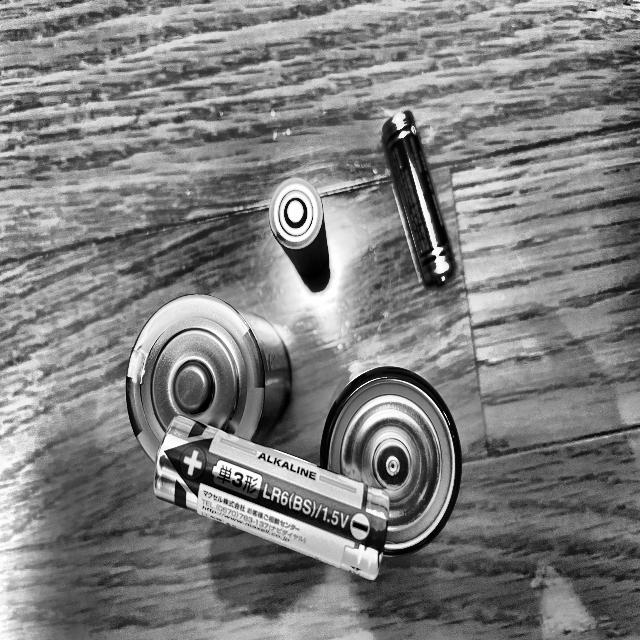drycell: (153, 413, 393, 581), (125, 292, 291, 458), (320, 367, 462, 555), (381, 110, 457, 289), (269, 177, 331, 292)
